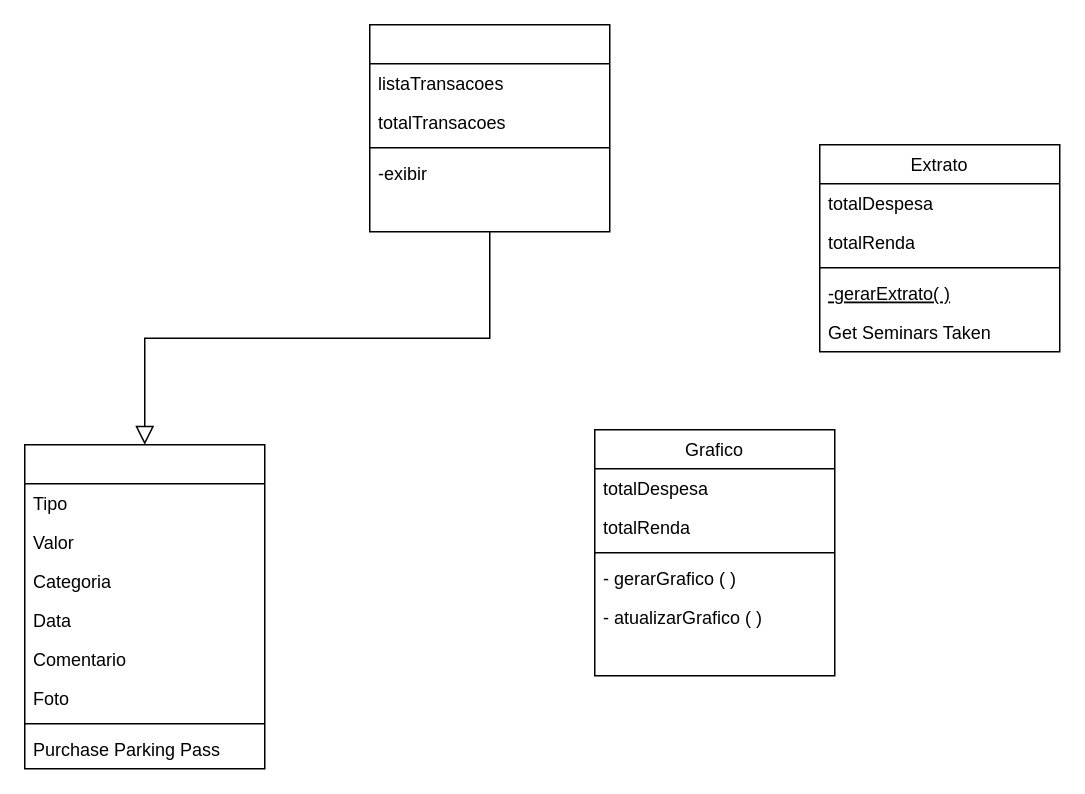
Some shapes in this 1085 by 794 pixel diagram are drawn without their labels. Here are the shapes that lost their labels. From the top down, the box of each, then its label:
(368, 23, 610, 232): VisaoGeral
(23, 443, 265, 769): Transacao
